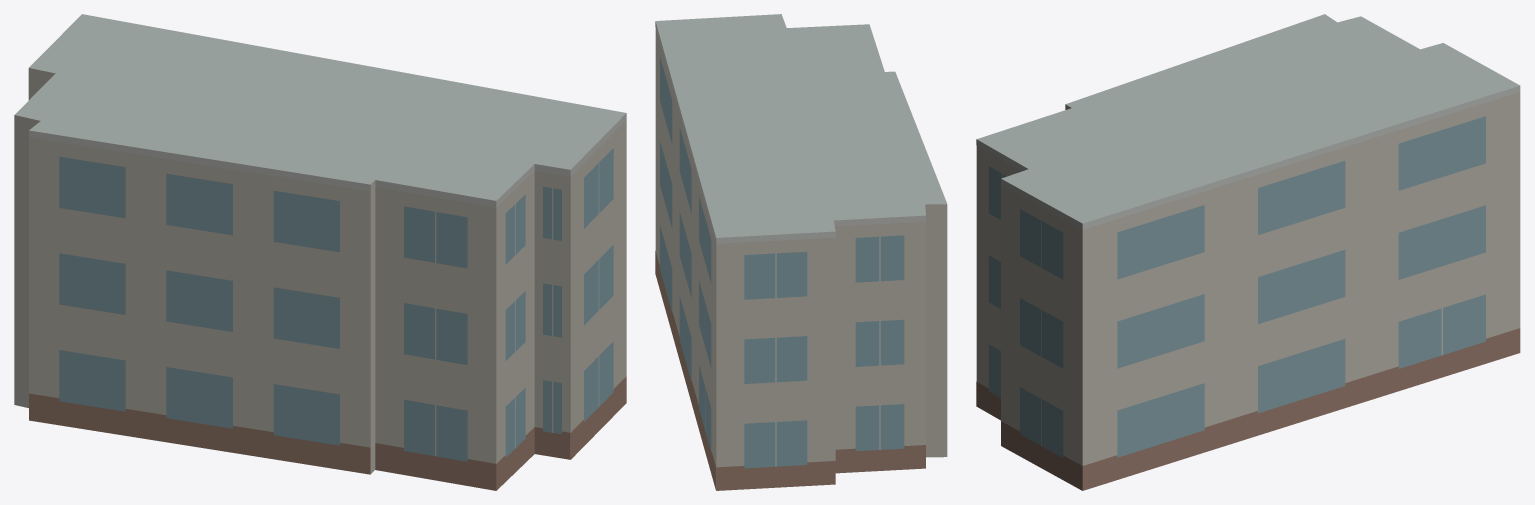
Rendered from survey-upis-32716633.glb.
3 views of the same model, side by side, from view 1: azimuth 30°, elevation 25°; view 2: azimuth 150°, elevation 25°; view 3: azimuth 270°, elevation 25° (orthographic). The views are drawn at different scales.
Visible parts, largest first — view 1: survey-upis-32716633.tmp; view 2: survey-upis-32716633.tmp; view 3: survey-upis-32716633.tmp.
Boxes of the visible parts, x1,y1,x2,y2 form: survey-upis-32716633.tmp: (14, 14, 626, 490); survey-upis-32716633.tmp: (655, 14, 947, 490); survey-upis-32716633.tmp: (976, 14, 1520, 490).
Bounding box in the file's own units: 17.5 × 10.4 × 19.19.
